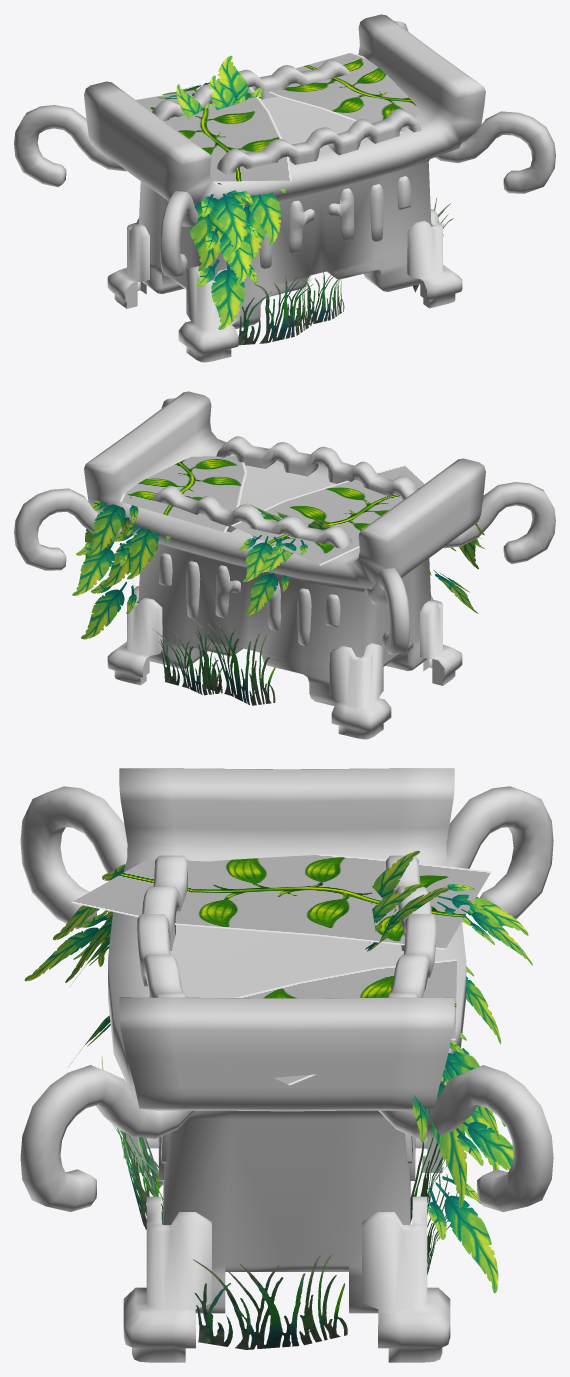
File: SM_Chest.fbx
3 renders of one model, top to bottom at view 1: azimuth 30°, elevation 25°; view 2: azimuth 150°, elevation 25°; view 3: azimuth 270°, elevation 25°, orthographic. The views are drawn at different scales.
Visible parts, largest first — view 1: ChestMesh; view 2: ChestMesh; view 3: ChestMesh.
Part boxes in pixels (bbox=[...]): ChestMesh: bbox=[14, 14, 555, 362]; ChestMesh: bbox=[14, 391, 555, 739]; ChestMesh: bbox=[20, 768, 553, 1362].
Size of the model in its own units: 471 by 244 by 328.
